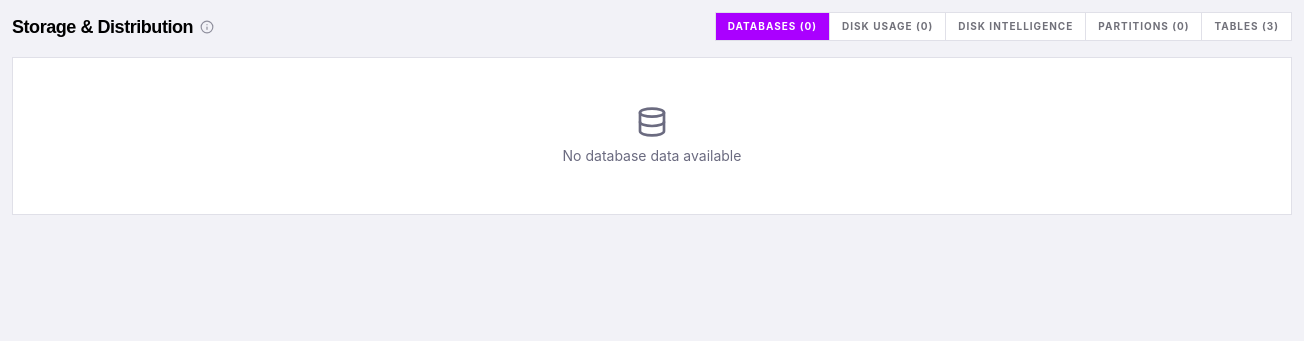
Test: StorageDistribution › displays and filters documented columnstore and rowstore table types
Click the button with test id "storage-tab-tables".
click(1247, 26)  # box [1202,13,1291,40]
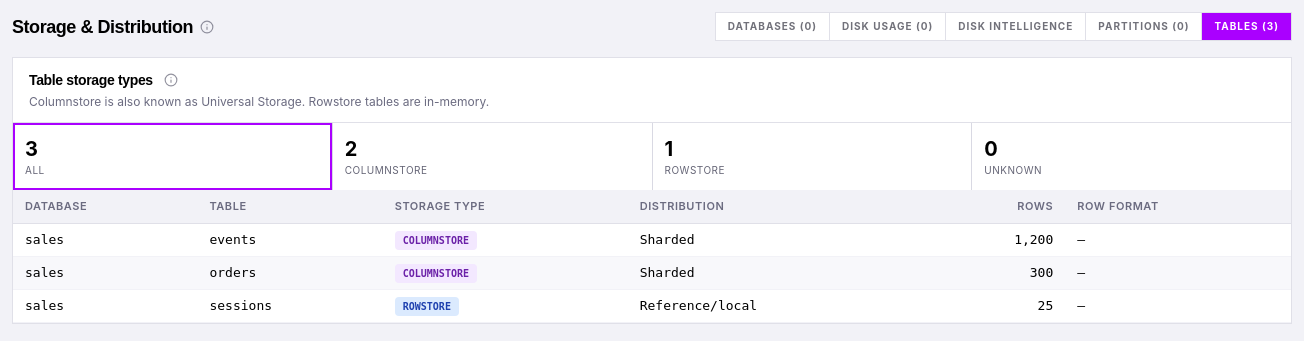
Expected: the element with test id "table-storage-summary" shows "Columnstore", [333,123,652,190]
Expected: the element with test id "table-storage-summary" shows "Rowstore"
Expected: the table with test id "table-storage-table" shows "events", [209,232,256,247]
Click the button with test id "table-storage-filter-rowstore".
click(695, 170)  # box [652,123,971,190]
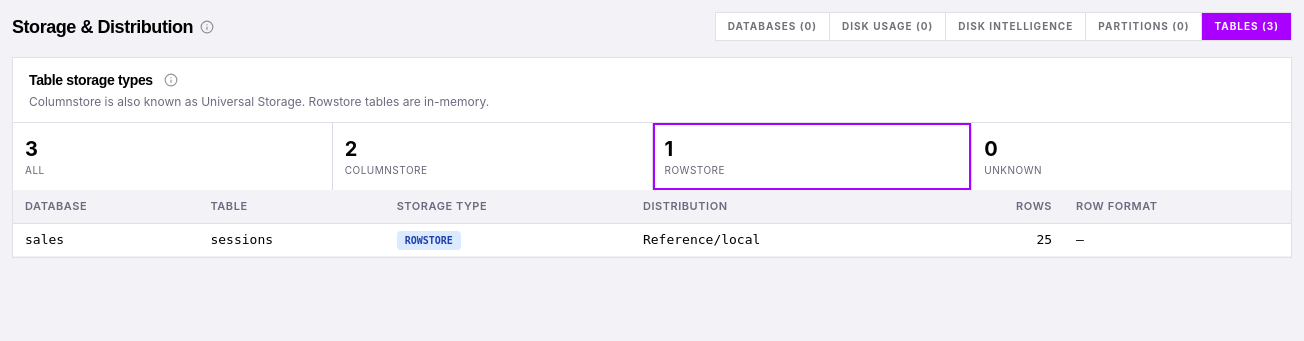
Expected: the table with test id "table-storage-table" shows "sessions", [210,232,273,247]
Expected: the table with test id "table-storage-table" no longer shows "events", [13,190,1291,256]
